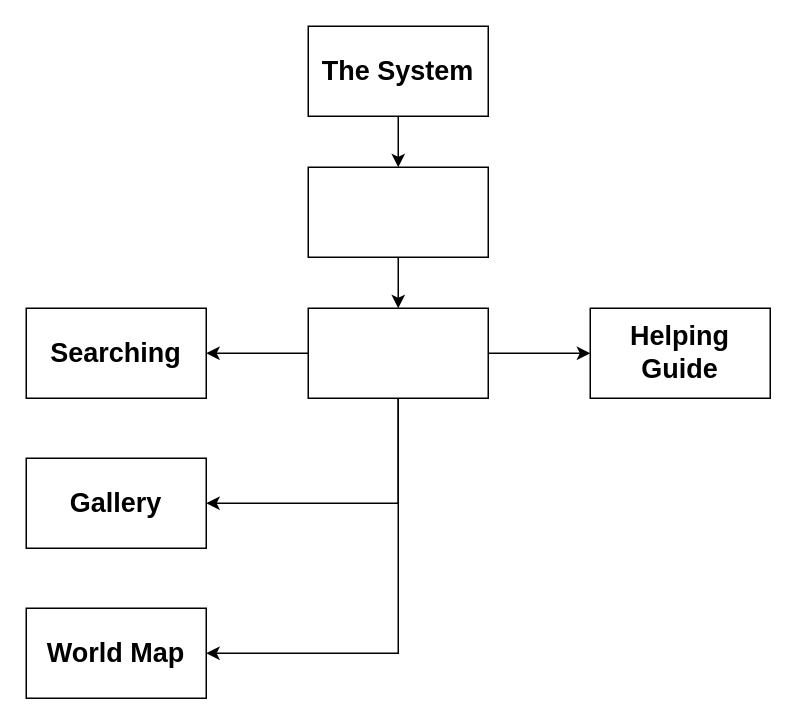
Some shapes in this 797 by 725 pixel diagram are drawn without their labels. The centre of each missing label's shape, as x and y in pixels:
Guest Account: point (397, 211)
Options: point (397, 352)
